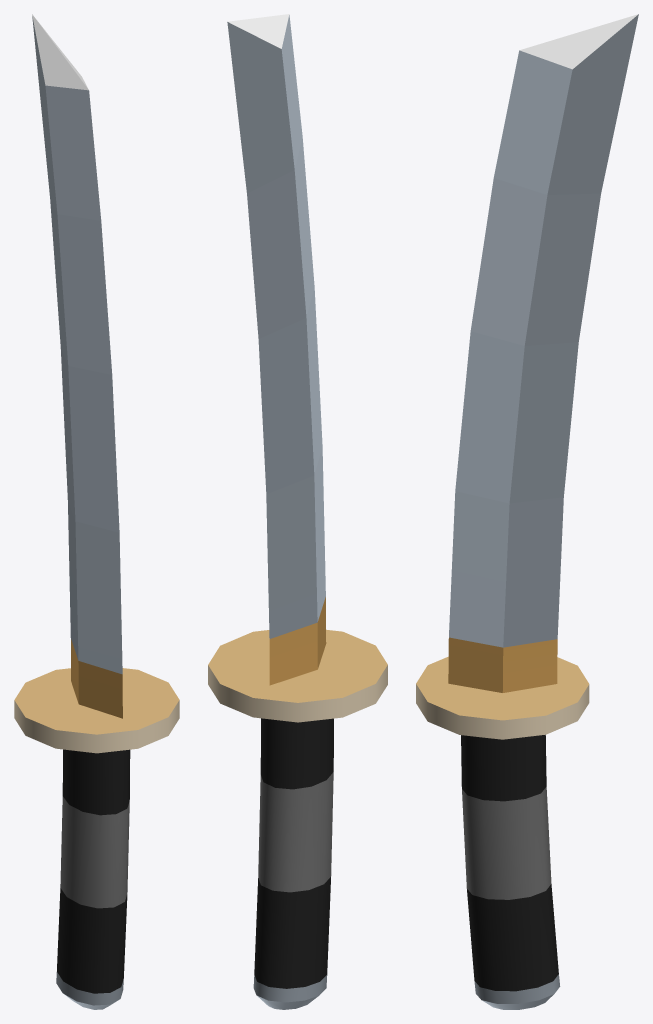
The model's file is Katana.fbx.
3 renders of one model, left to right at view 1: azimuth 30°, elevation 25°; view 2: azimuth 150°, elevation 25°; view 3: azimuth 270°, elevation 25°, orthographic. The views are drawn at different scales.
Parts seen in each view (by area): view 1: Katana; view 2: Katana; view 3: Katana.
Boxes of the visible parts, box(x1,y1,x2,y2) form: Katana: box(14, 14, 179, 1009); Katana: box(208, 14, 387, 1009); Katana: box(416, 14, 638, 1009).
Bounding box in the file's own units: 25.73 × 162 × 33.08.
